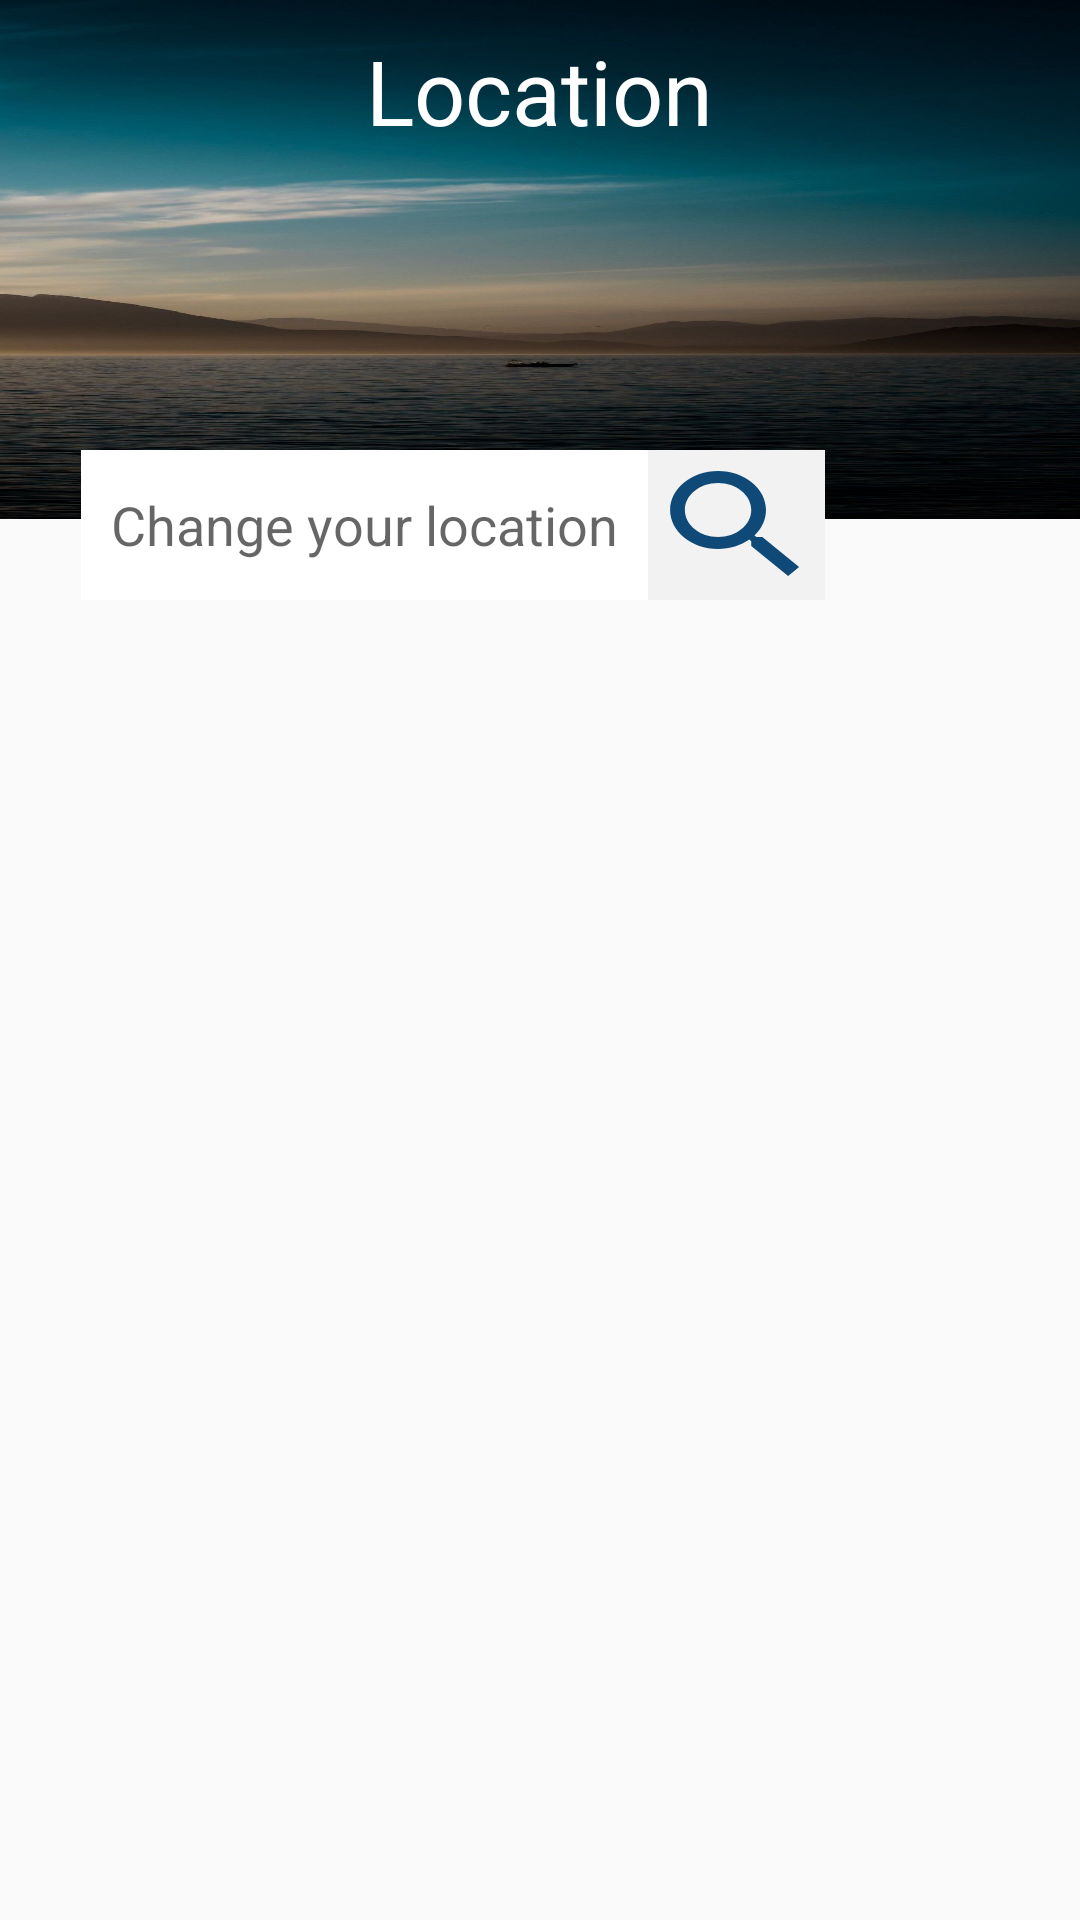

Icon click points for this 1080 x 1920 phone screenshot, format point (x, y):
search: point (734, 523)
